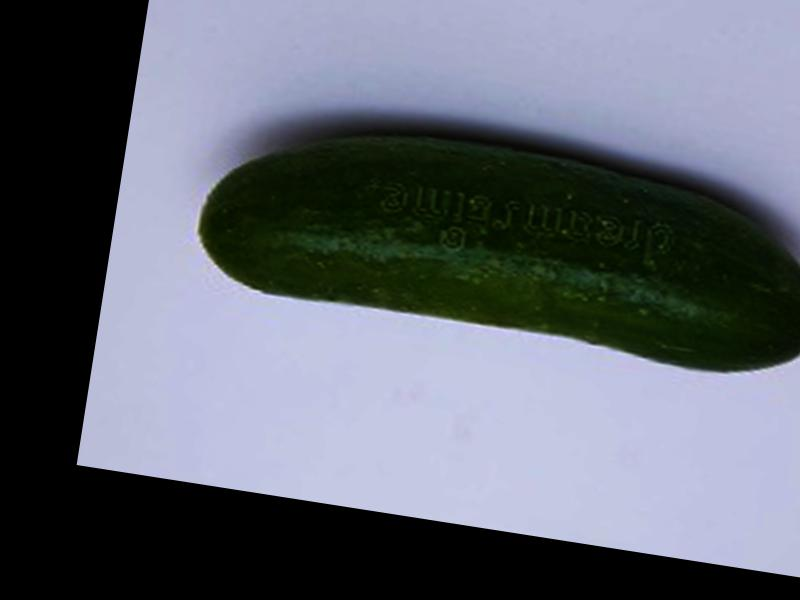Cucumber: (189, 101, 800, 391)
